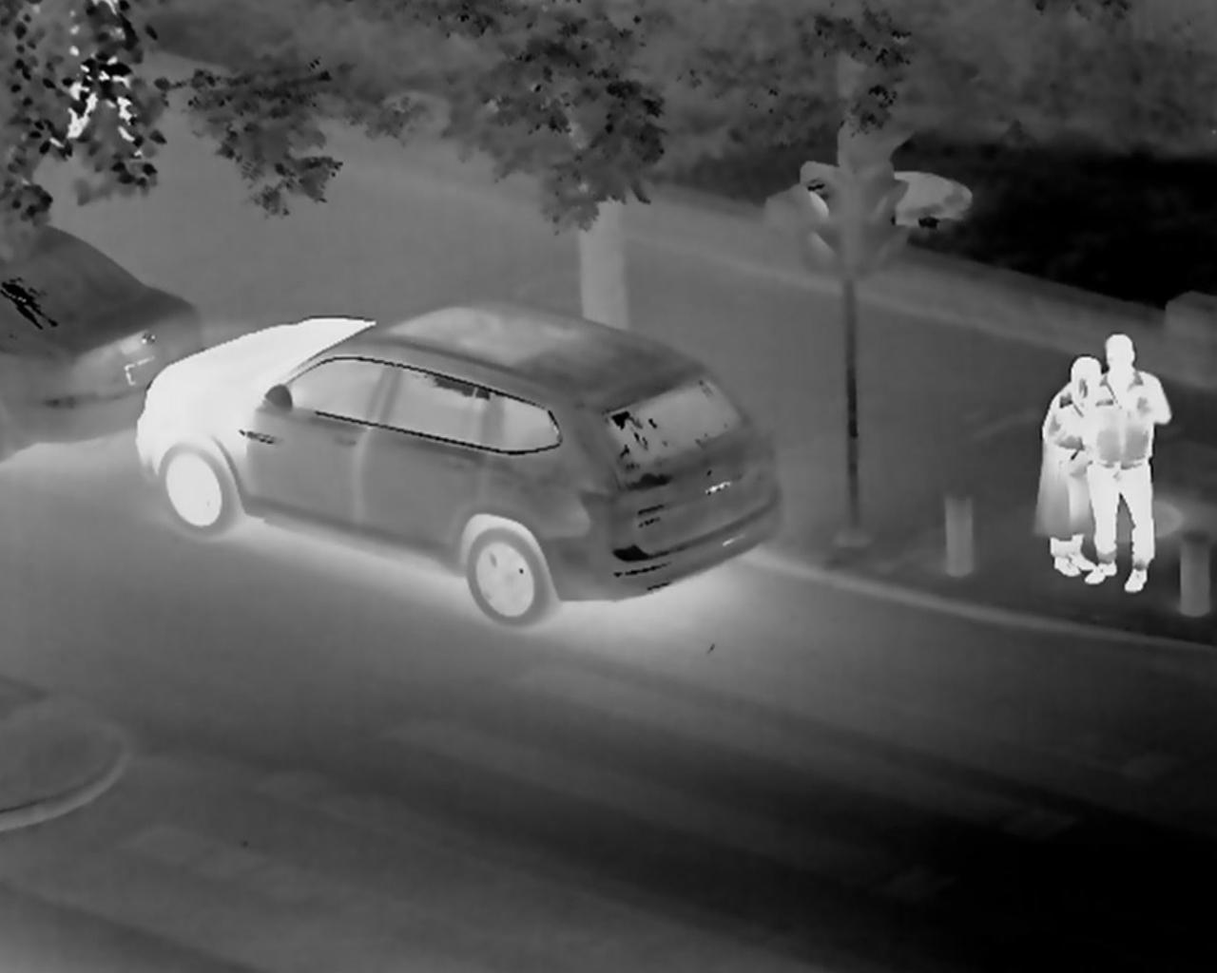person: (1092, 341, 1166, 597), (1039, 351, 1093, 590)
